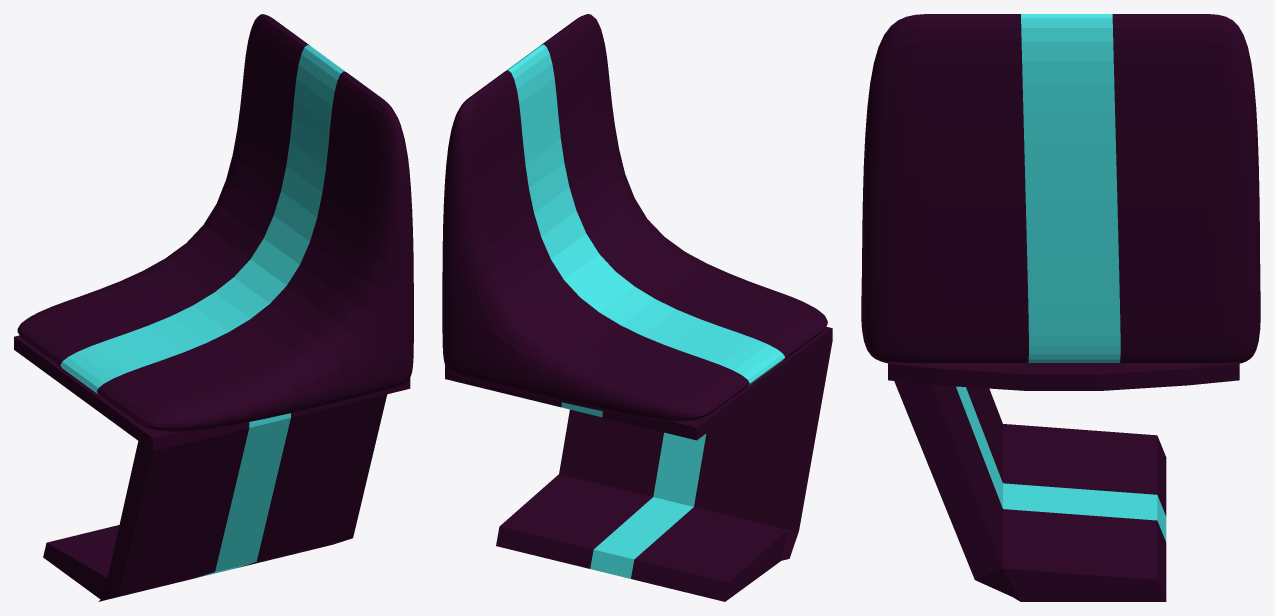
Rendered from ggj2019chair.fbx.
The picture shows the model from 3 angles, left to right: view 1: azimuth 30°, elevation 25°; view 2: azimuth 150°, elevation 25°; view 3: azimuth 270°, elevation 25°; orthographic projection. The views are drawn at different scales.
Parts seen in each view (by area): view 1: Cube.006; view 2: Cube.006; view 3: Cube.006.
Boxes of the visible parts, x1,y1,x2,y2 form: Cube.006: (14, 14, 413, 601); Cube.006: (442, 14, 832, 601); Cube.006: (861, 14, 1260, 601).
Size of the model in its own units: 66.05 by 106 by 64.43.
